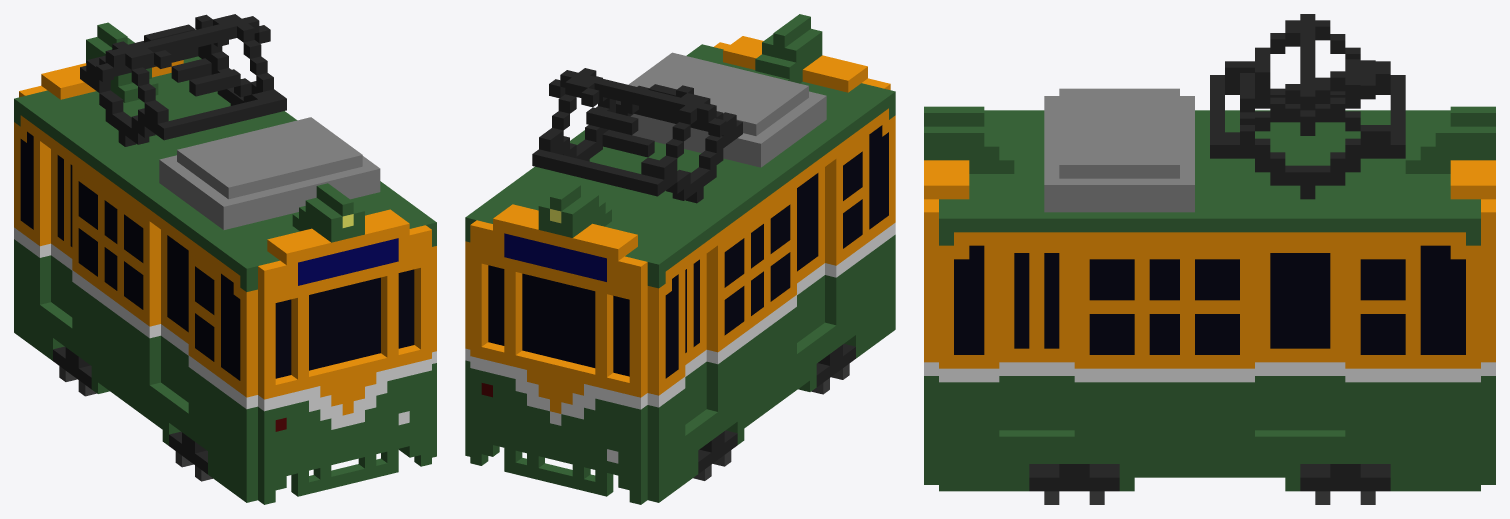
Rendered from kagosimasiden.glb.
The picture shows the model from 3 angles, left to right: view 1: azimuth 30°, elevation 25°; view 2: azimuth 150°, elevation 25°; view 3: azimuth 270°, elevation 25°; orthographic projection. The views are drawn at different scales.
Visible parts, largest first — view 1: Untitled; view 2: Untitled; view 3: Untitled.
Boxes of the visible parts, bbox=[...] form: Untitled: bbox=[14, 14, 436, 504]; Untitled: bbox=[465, 14, 895, 504]; Untitled: bbox=[924, 14, 1495, 504].
Size of the model in its own units: 1.7 by 2.9 by 3.8.
1 material, 1 textured.
